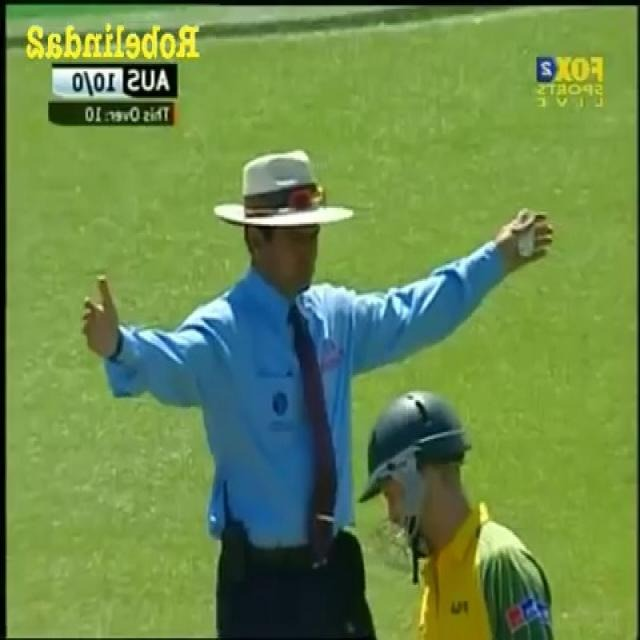Wide: (76, 144, 561, 640)
